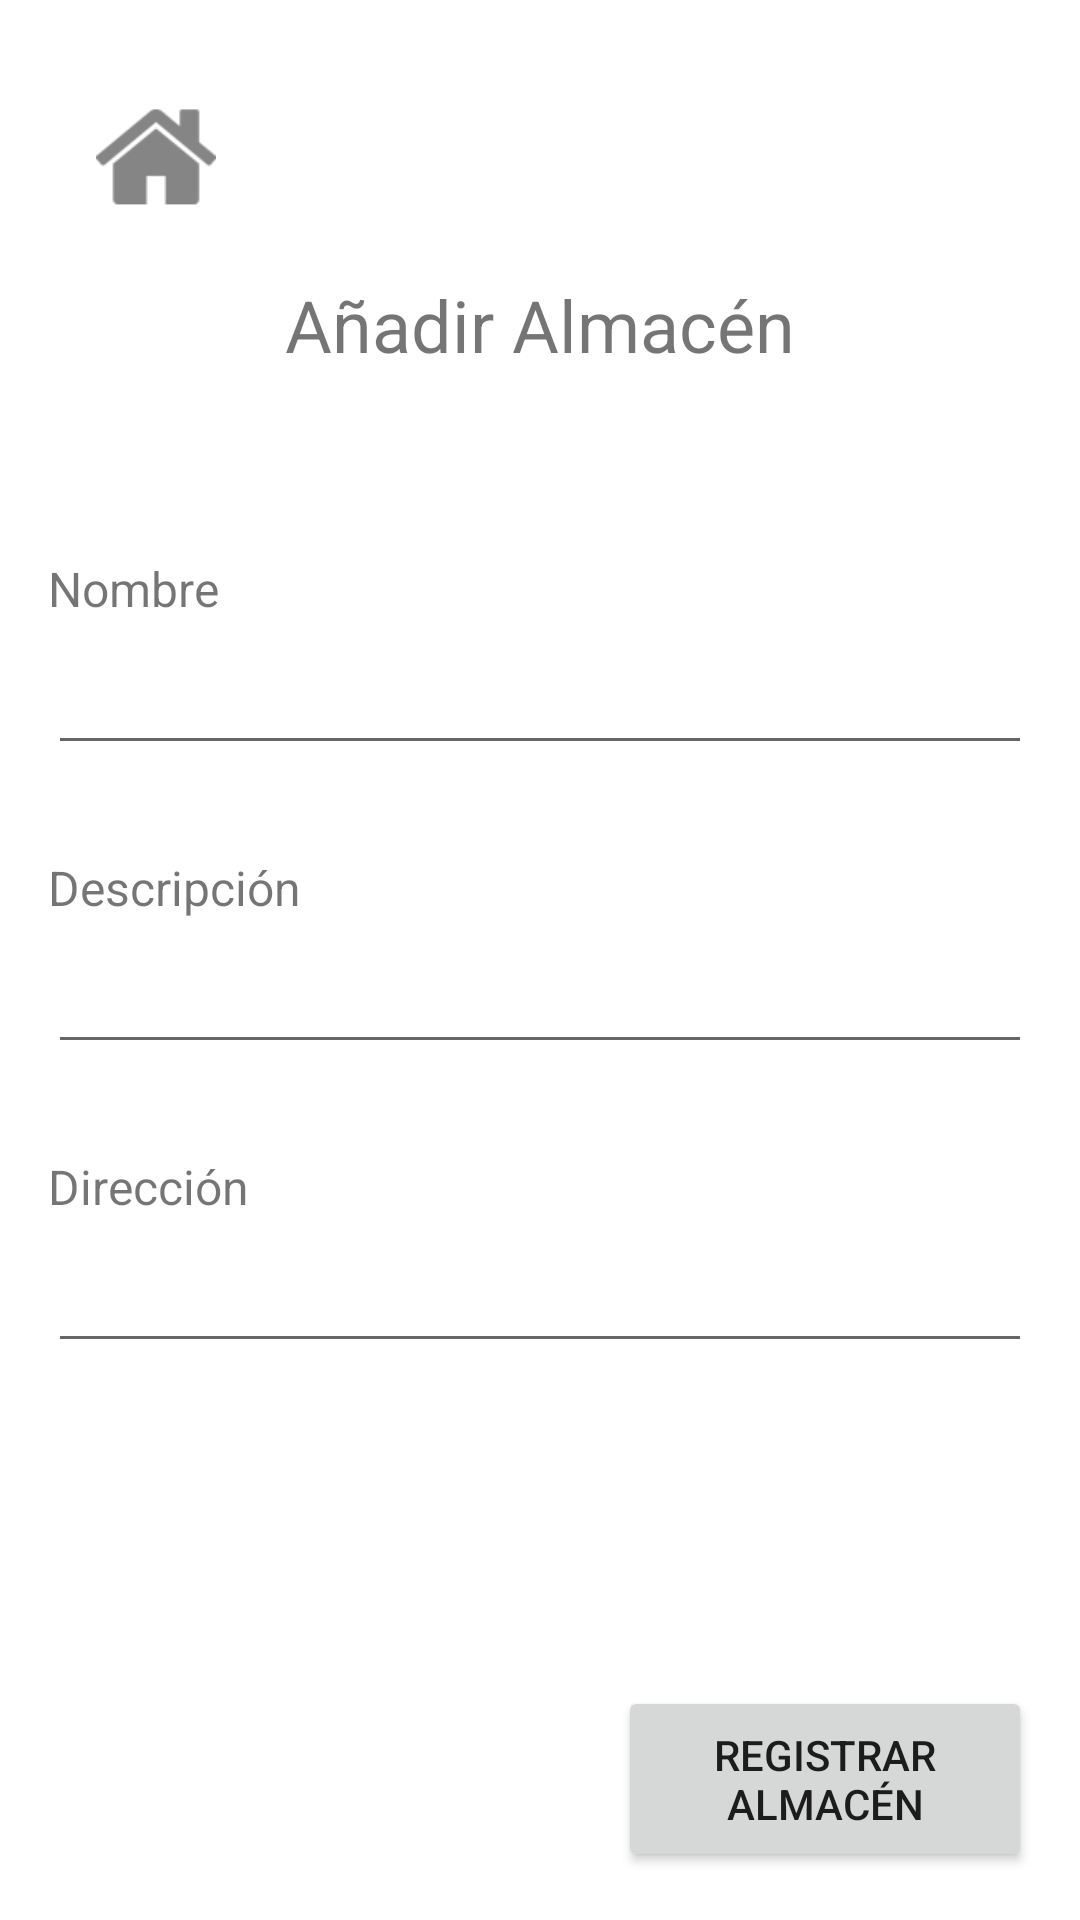

Icons on this 1080px x 1920px Android screen, each with its box as (x1, y1, x2, y2):
home: (96, 109, 216, 205)
